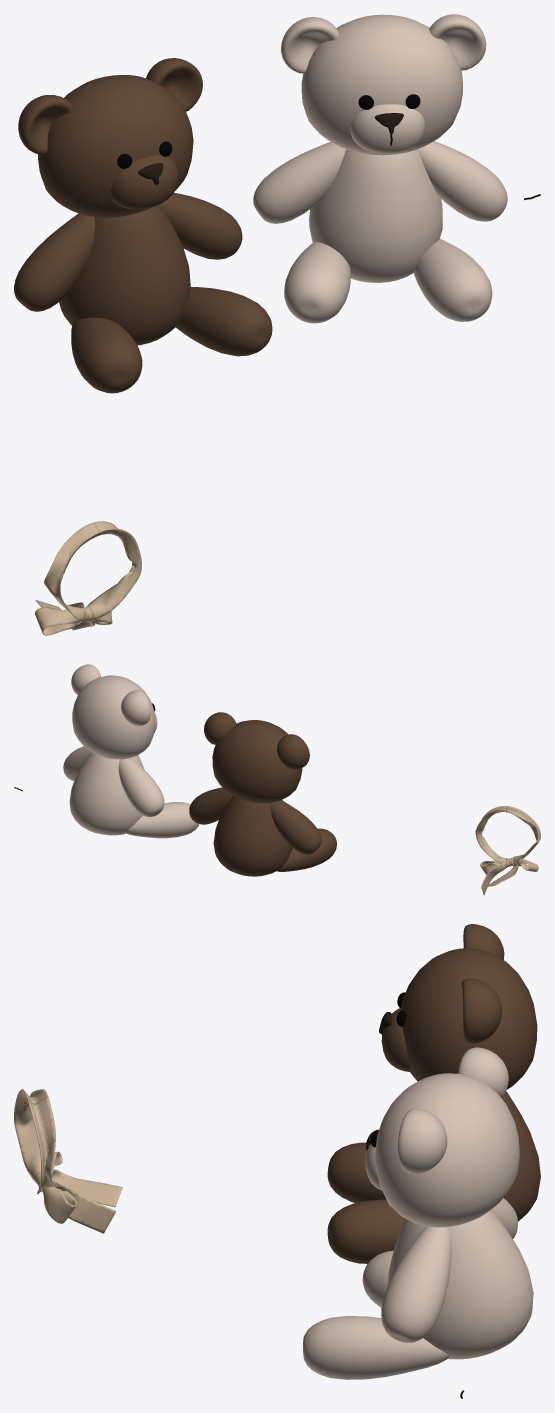
File: dddddgs1.glb
The picture shows the model from 3 angles, top to bottom: view 1: azimuth 30°, elevation 25°; view 2: azimuth 150°, elevation 25°; view 3: azimuth 270°, elevation 25°; orthographic projection. The views are drawn at different scales.
Parts seen in each view (by area): view 1: Object_29, Object_9; view 2: Object_29, Object_9; view 3: Object_29, Object_9.
Boxes of the visible parts, left/top/right/bottom form: Object_29: left=35, top=14, right=507, bottom=635; Object_9: left=14, top=58, right=272, bottom=393; Object_29: left=63, top=664, right=540, bottom=895; Object_9: left=189, top=712, right=336, bottom=876; Object_29: left=14, top=1047, right=533, bottom=1379; Object_9: left=327, top=924, right=540, bottom=1263.
Size of the model in its own units: 9.95 by 5.14 by 6.18.
